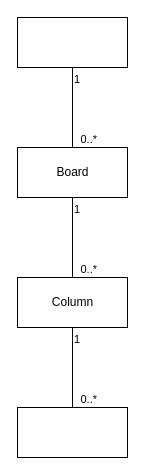
The diagram is 145 pixels wide and 475 high, and some of its shapes have lost their labels. The shapes that lost their labels are listed below. From the top down, each one's box as (x1, y1, x2, y2) in pixels, then its label:
(16, 16, 128, 68): Board Controller
(16, 406, 128, 458): Task
